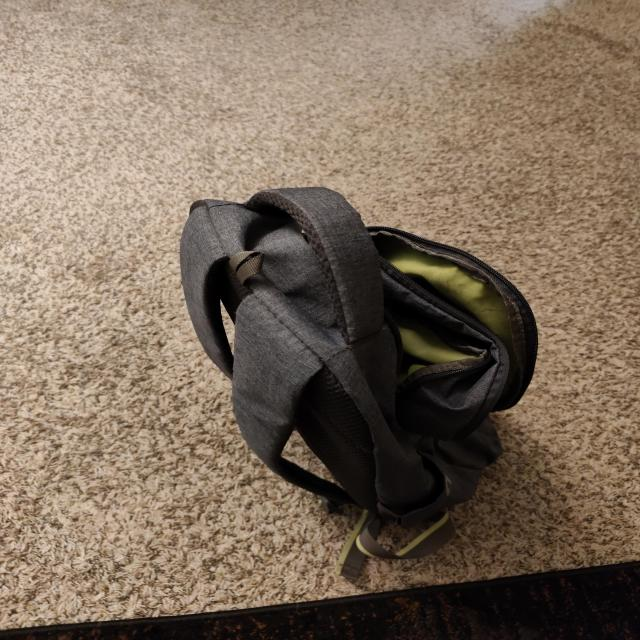bag: (171, 180, 547, 525)
